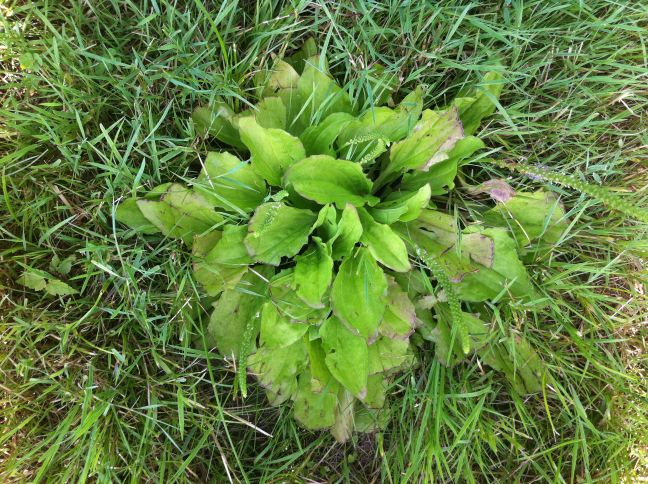weed1: (134, 50, 576, 440)
